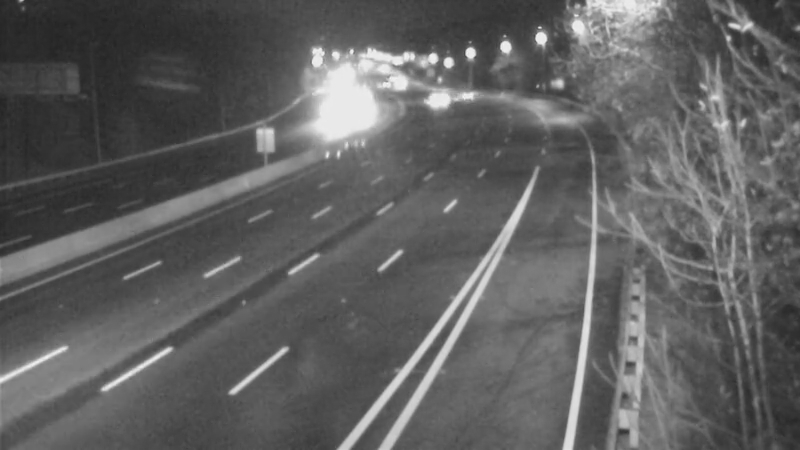vehicle: (438, 68, 488, 118), (420, 74, 470, 124)
